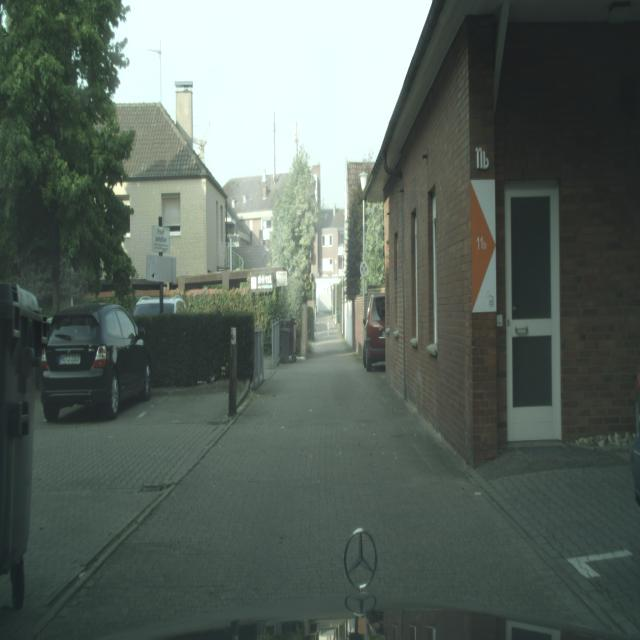car: (40, 302, 152, 422), (133, 290, 187, 327), (362, 291, 385, 372)
